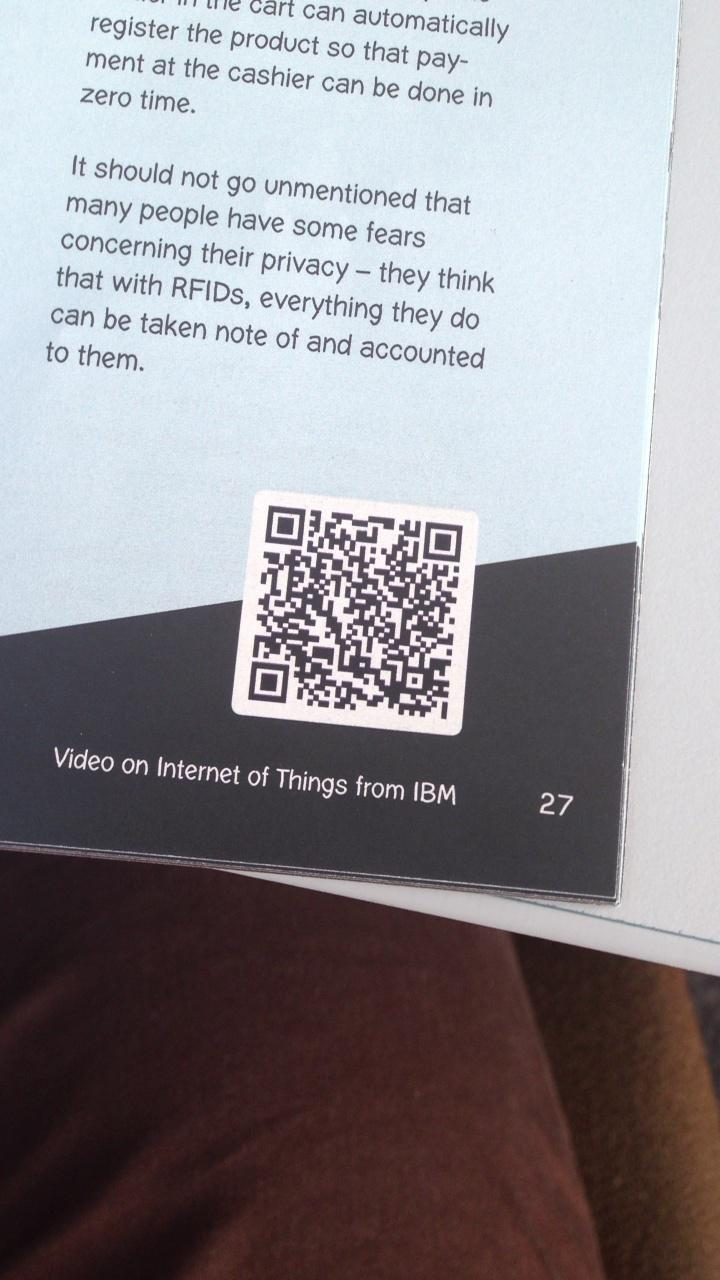Finder pattern: (419, 518, 467, 566), (261, 501, 310, 548), (246, 657, 291, 705)
